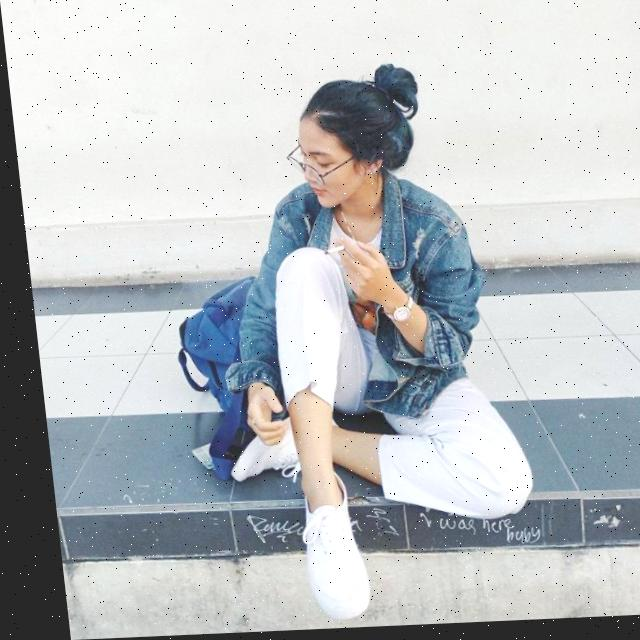cigarette: (317, 248, 339, 258)
